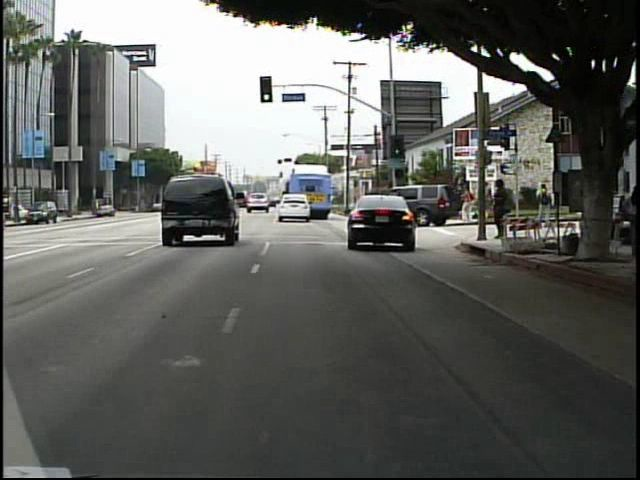person: (489, 175, 512, 246), (459, 181, 478, 227), (478, 179, 494, 224), (536, 181, 553, 221)
